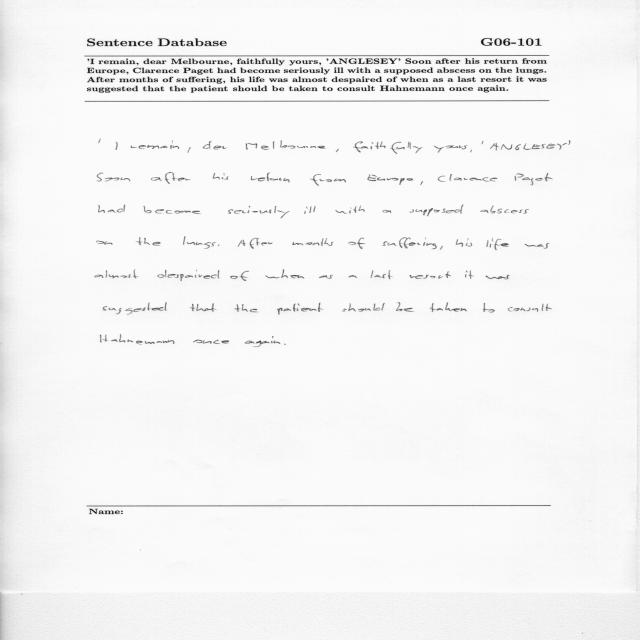word: (353, 141, 423, 154), (103, 302, 167, 315), (100, 334, 175, 345), (246, 140, 326, 150), (228, 206, 290, 218), (158, 270, 219, 281), (382, 237, 437, 249), (410, 205, 464, 216), (278, 303, 324, 315), (490, 143, 567, 150), (367, 174, 413, 185), (151, 172, 191, 184), (438, 174, 498, 182), (143, 206, 201, 214), (515, 173, 553, 185), (480, 205, 529, 214), (131, 140, 179, 149), (310, 174, 346, 186), (183, 237, 216, 249), (95, 270, 139, 279), (251, 173, 290, 183), (342, 303, 385, 312), (238, 238, 273, 249), (245, 336, 280, 347), (508, 304, 552, 312), (266, 270, 305, 279), (410, 271, 452, 279), (430, 303, 467, 312), (293, 238, 334, 246), (98, 173, 131, 182), (434, 145, 468, 153), (487, 239, 509, 251), (335, 206, 365, 214), (190, 303, 216, 312), (136, 237, 161, 246), (99, 205, 125, 213), (370, 270, 392, 279), (203, 141, 227, 149), (234, 304, 258, 312), (230, 271, 249, 281), (349, 238, 366, 249), (396, 302, 414, 312), (525, 243, 550, 249), (456, 238, 472, 247), (193, 340, 229, 344), (482, 303, 495, 312), (213, 173, 228, 180), (304, 206, 316, 214), (486, 275, 510, 279), (465, 270, 474, 279), (97, 241, 113, 245), (319, 275, 333, 279), (382, 210, 392, 213), (349, 275, 358, 278), (115, 142, 118, 150), (187, 147, 191, 153), (568, 140, 571, 145), (420, 181, 423, 185), (440, 246, 443, 250), (336, 149, 339, 152), (99, 139, 101, 143), (470, 150, 472, 153), (482, 141, 484, 144), (284, 344, 286, 345), (218, 245, 219, 246)
